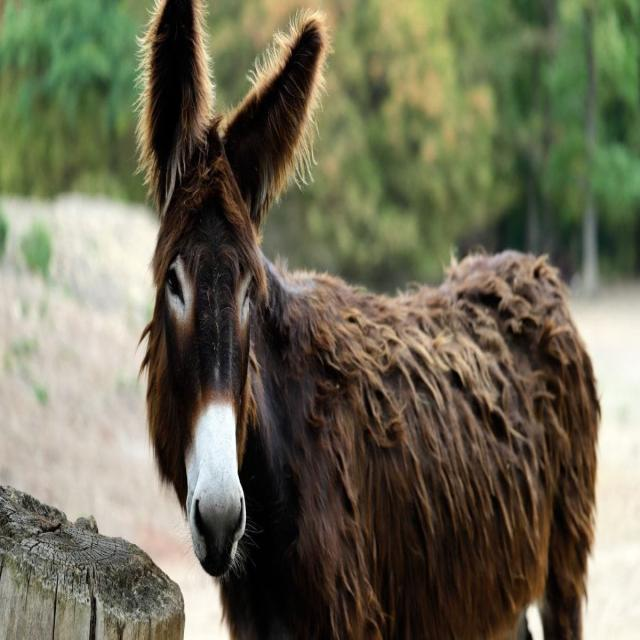Donkey: (123, 0, 604, 640)
